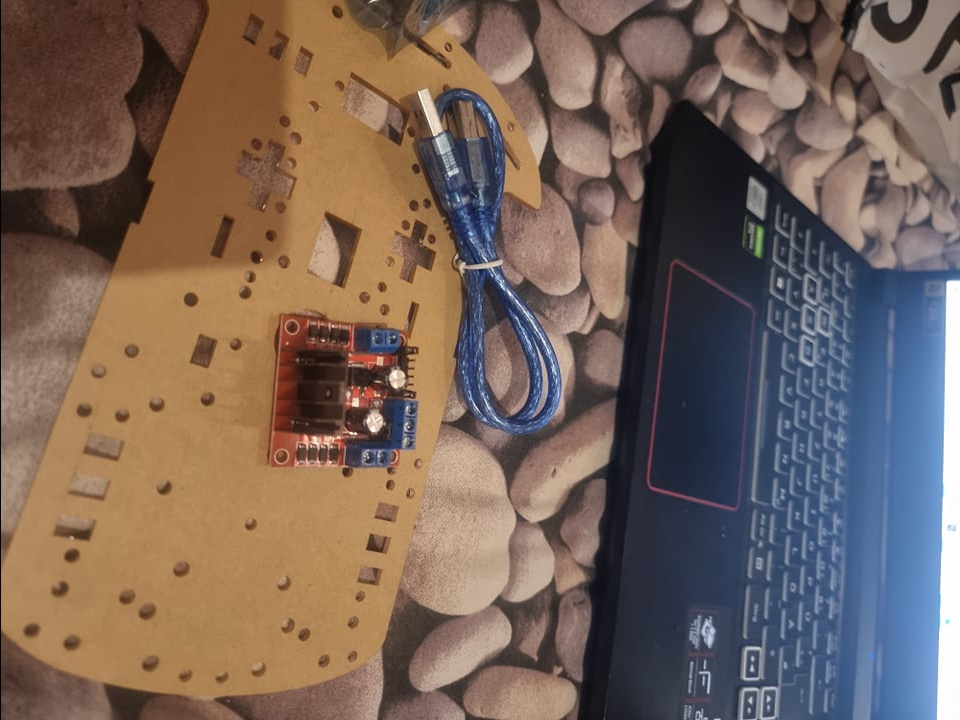MOTOR: (265, 309, 417, 472)
